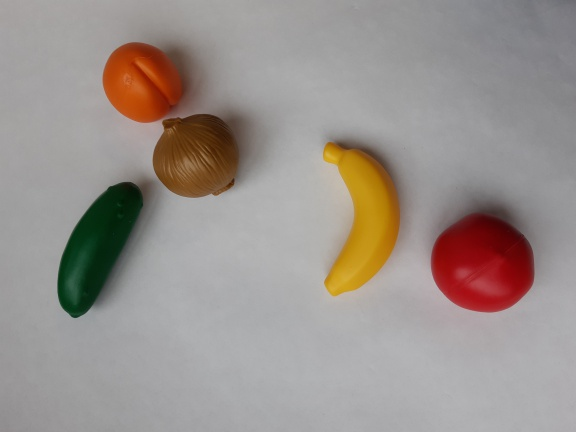apricot: (98, 36, 189, 127)
banana: (319, 136, 409, 299)
cucumber: (50, 177, 150, 324)
onion: (146, 109, 245, 204)
tomato: (426, 208, 542, 319)
